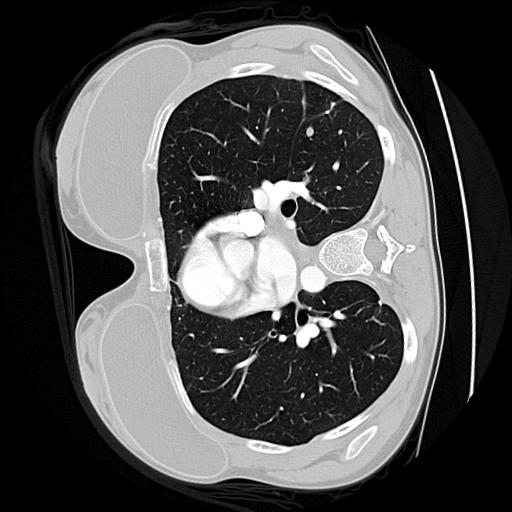nodule: (302, 123, 318, 139)
